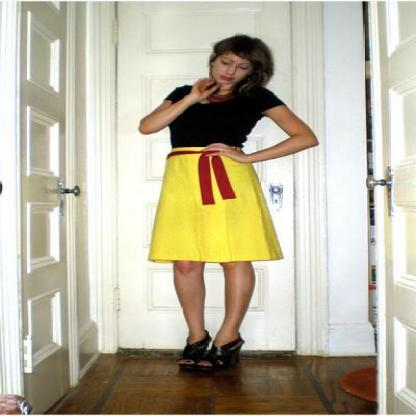shirt: (165, 84, 283, 157)
shoe: (180, 332, 243, 362)
skirt: (148, 144, 283, 263)
